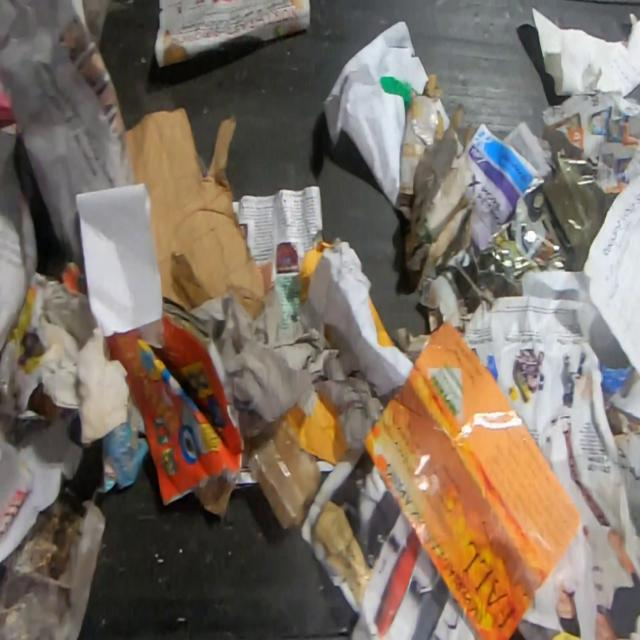cardboard: (126, 106, 272, 324), (396, 73, 476, 269), (247, 422, 325, 528)
